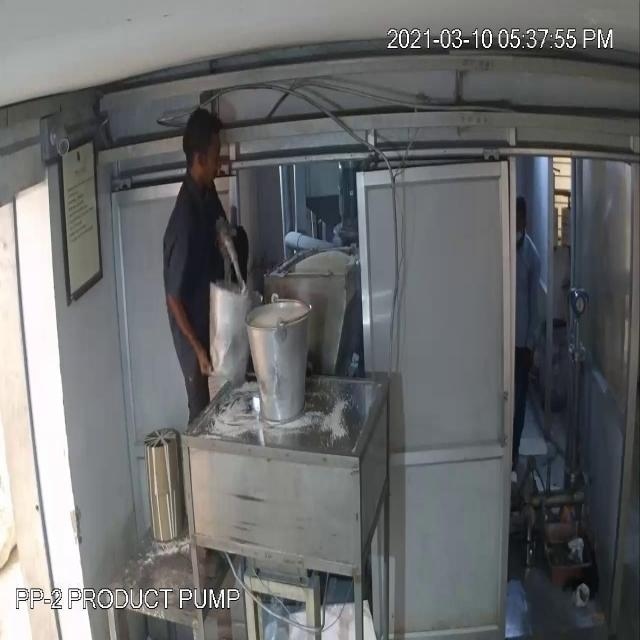No_Gloves: (162, 278, 214, 404)
